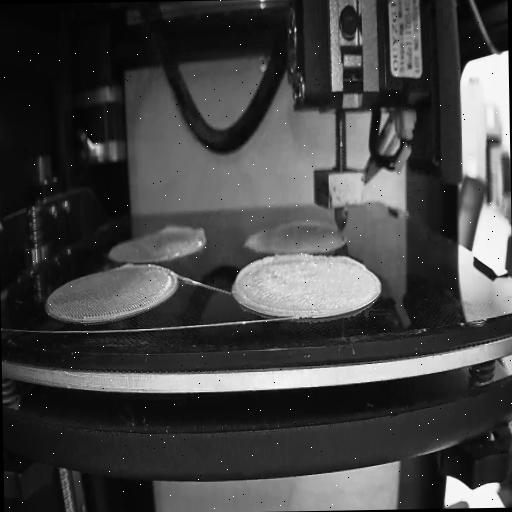over_extrusion: (230, 254, 325, 320), (156, 222, 208, 248), (334, 256, 366, 272), (116, 258, 138, 272), (338, 234, 348, 249)
